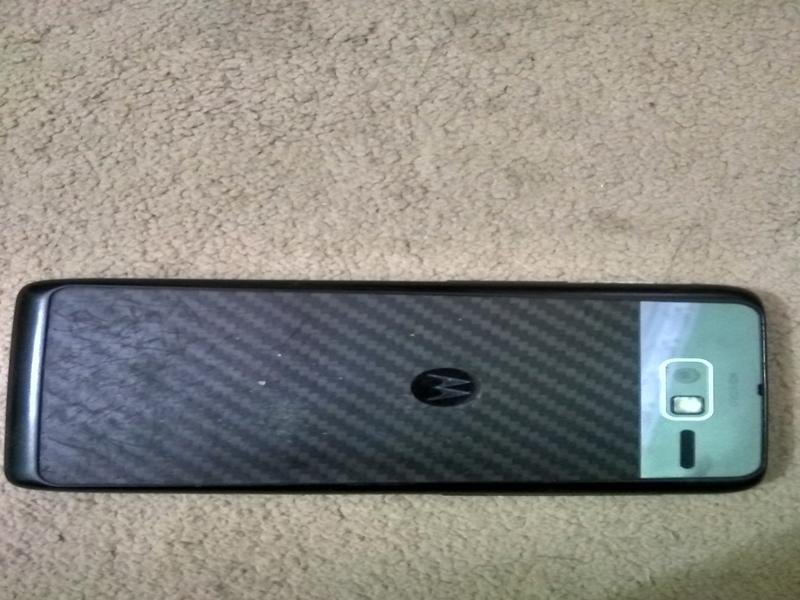moto: (7, 280, 771, 503)
